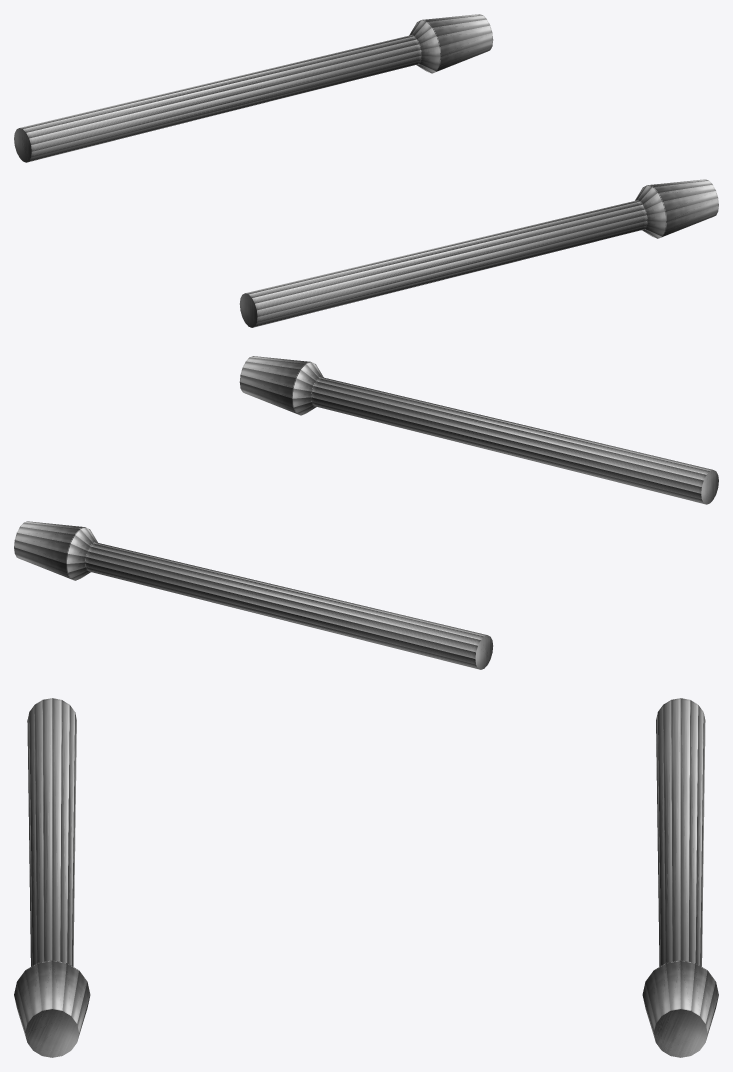
Rendered from Player_4by3ratio.obj.
The picture shows the model from 3 angles, top to bottom: view 1: azimuth 30°, elevation 25°; view 2: azimuth 150°, elevation 25°; view 3: azimuth 270°, elevation 25°; orthographic projection. The views are drawn at different scales.
Visible parts, largest first — view 1: Cylinder.001_Cylinder.002, Cylinder_Cylinder.001; view 2: Cylinder_Cylinder.001, Cylinder.001_Cylinder.002; view 3: Cylinder.001_Cylinder.002, Cylinder_Cylinder.001.
Boxes of the visible parts, bbox=[...] form: Cylinder.001_Cylinder.002: bbox=[239, 179, 718, 327]; Cylinder_Cylinder.001: bbox=[14, 14, 493, 162]; Cylinder_Cylinder.001: bbox=[14, 521, 493, 669]; Cylinder.001_Cylinder.002: bbox=[239, 356, 718, 504]; Cylinder.001_Cylinder.002: bbox=[14, 698, 90, 1057]; Cylinder_Cylinder.001: bbox=[642, 698, 718, 1057].
Bounding box in the file's own units: 2.36 × 0.2434 × 2.24.
Materials: 1 (1 with a texture image).
